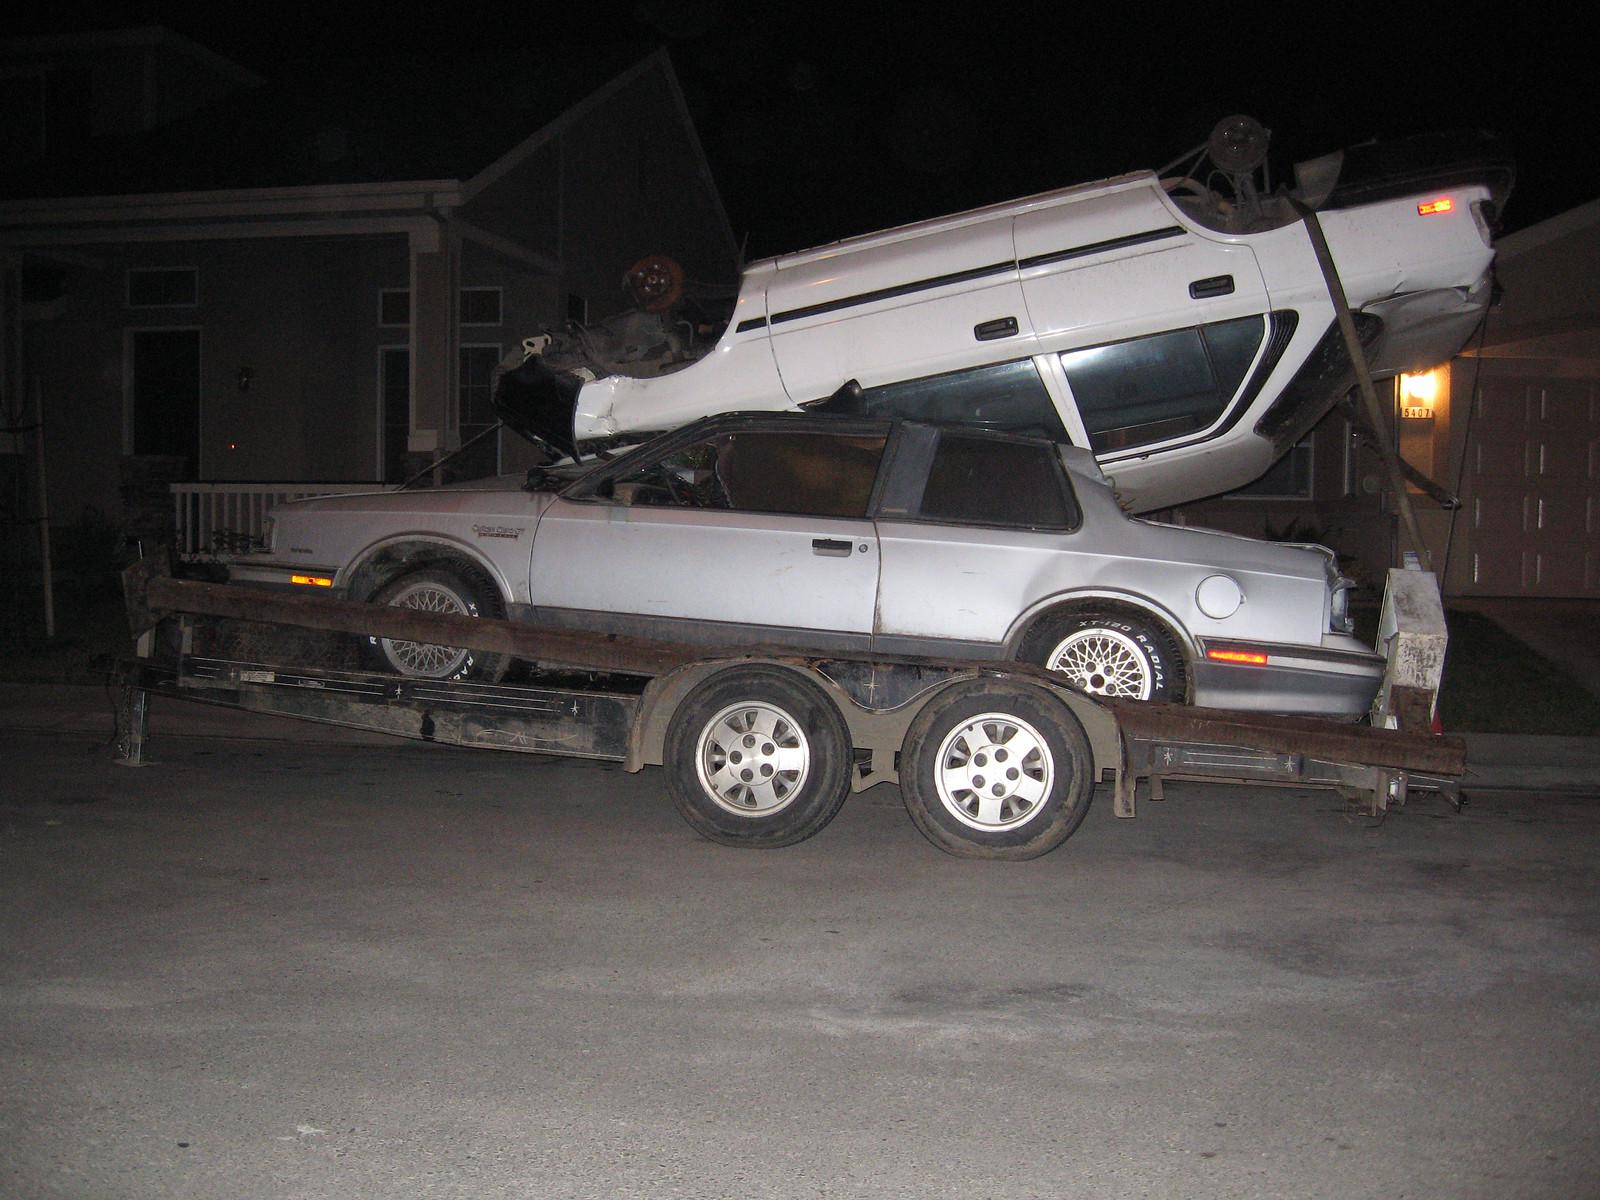quaterpanel-dent: (1044, 529, 1225, 600)
